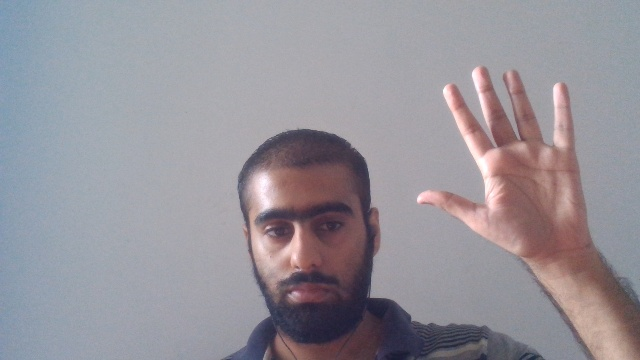paper: (415, 64, 589, 261)
